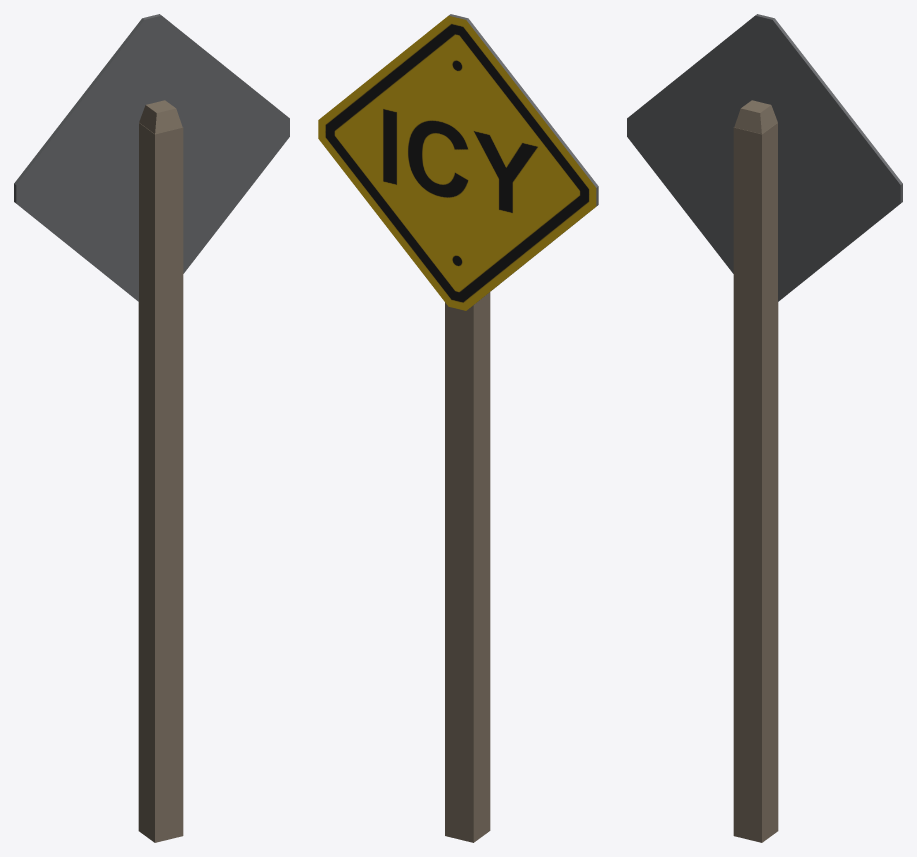
The model's file is sign-icy.glb.
3 views of the same model, side by side, from view 1: azimuth 30°, elevation 25°; view 2: azimuth 150°, elevation 25°; view 3: azimuth 330°, elevation 25° (orthographic).
Visible parts, largest first — view 1: sign-icy; view 2: sign-icy; view 3: sign-icy.
Part boxes in pixels (left/top/right/bottom): sign-icy: left=14, top=14, right=289, bottom=842; sign-icy: left=318, top=14, right=598, bottom=842; sign-icy: left=627, top=14, right=902, bottom=842.
Size of the model in its own units: 0.8592 by 2.43 by 0.099.
3 materials, 1 textured.
